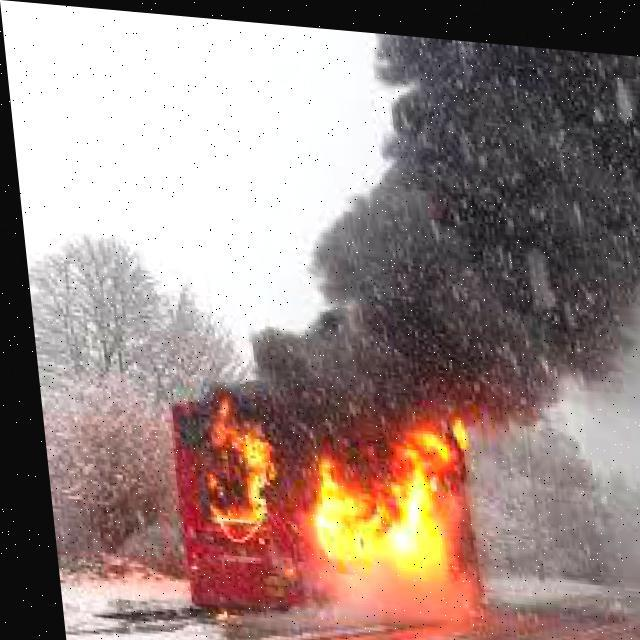Fire: (169, 376, 492, 586)
